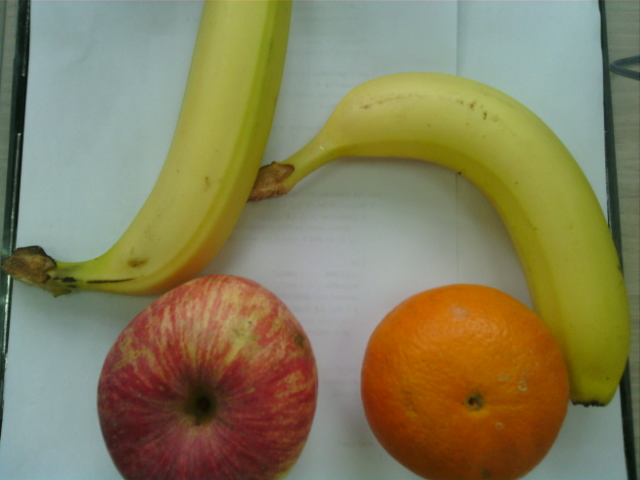normal_apple: (100, 277, 318, 480)
normal_banana: (273, 73, 630, 408), (51, 1, 294, 294)
normal_orange: (364, 284, 572, 480)
